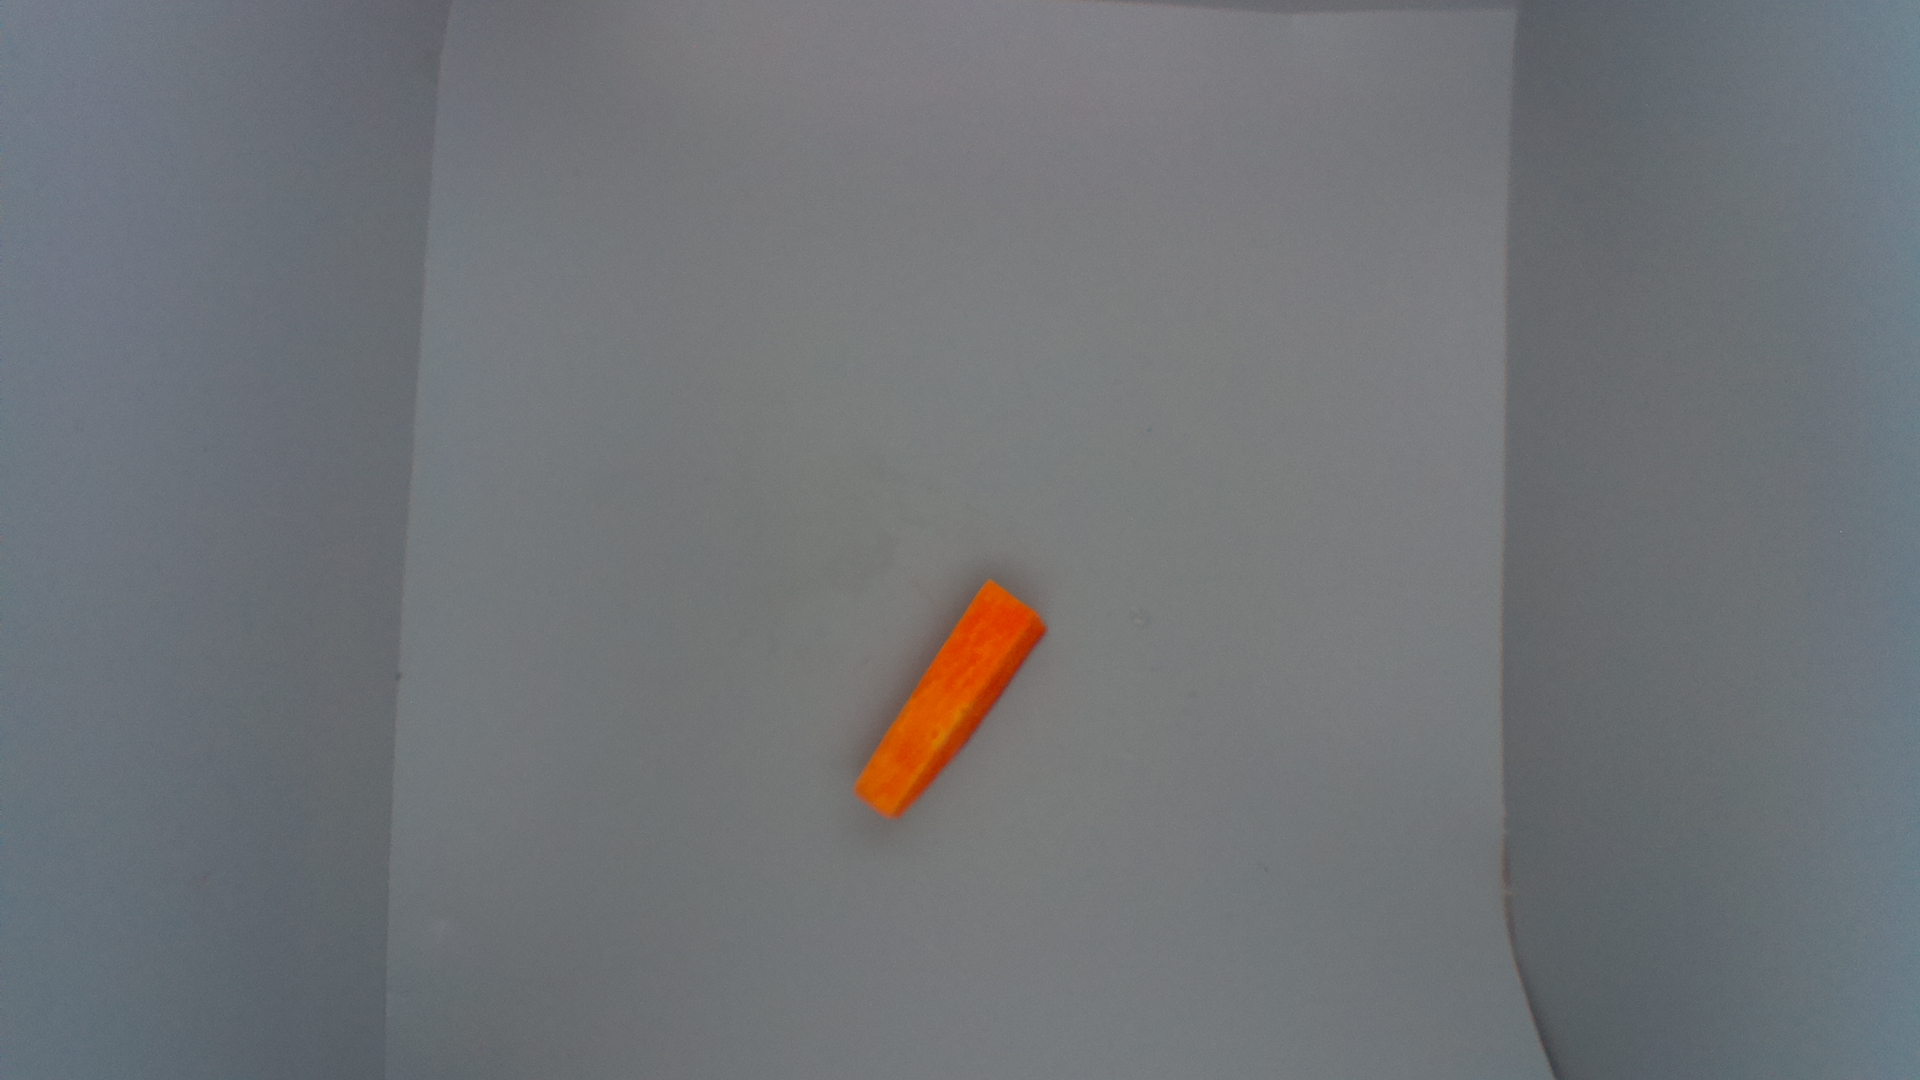carrot: (855, 579, 1052, 827)
